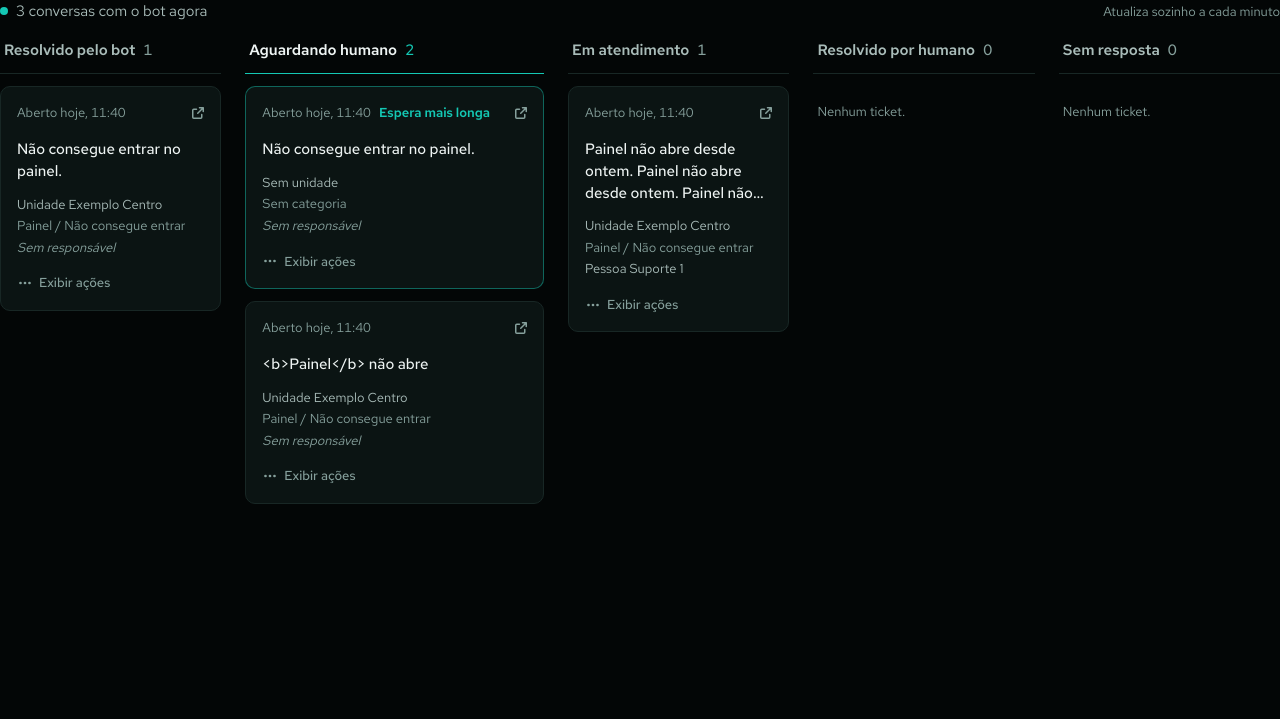
Test case: BoardView › opens the details of a ticket from its card, with the full summary and the actions
Click the button named "ver detalhes": (681, 172) [585,139,776,204]
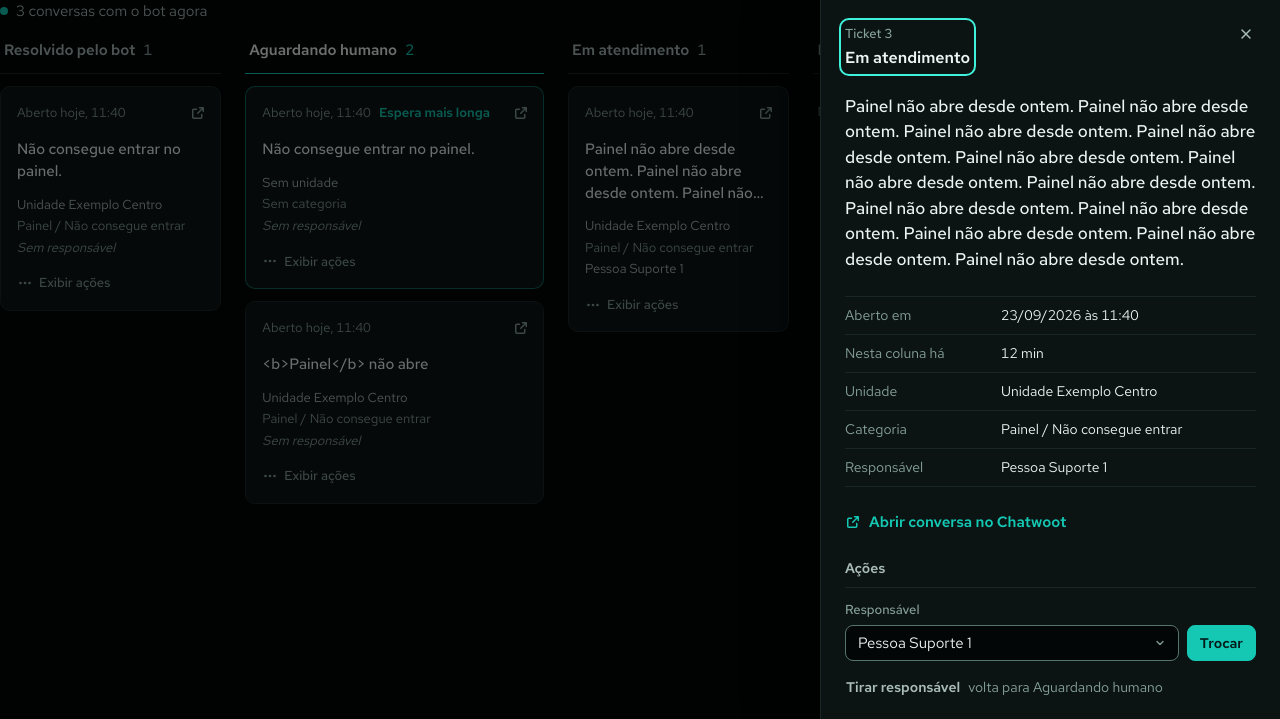
Expected: the button "Trocar" is shown, [1187,625,1256,661]
Click the button named "Fechar detalhes": (1246, 34) [1228,16,1264,52]
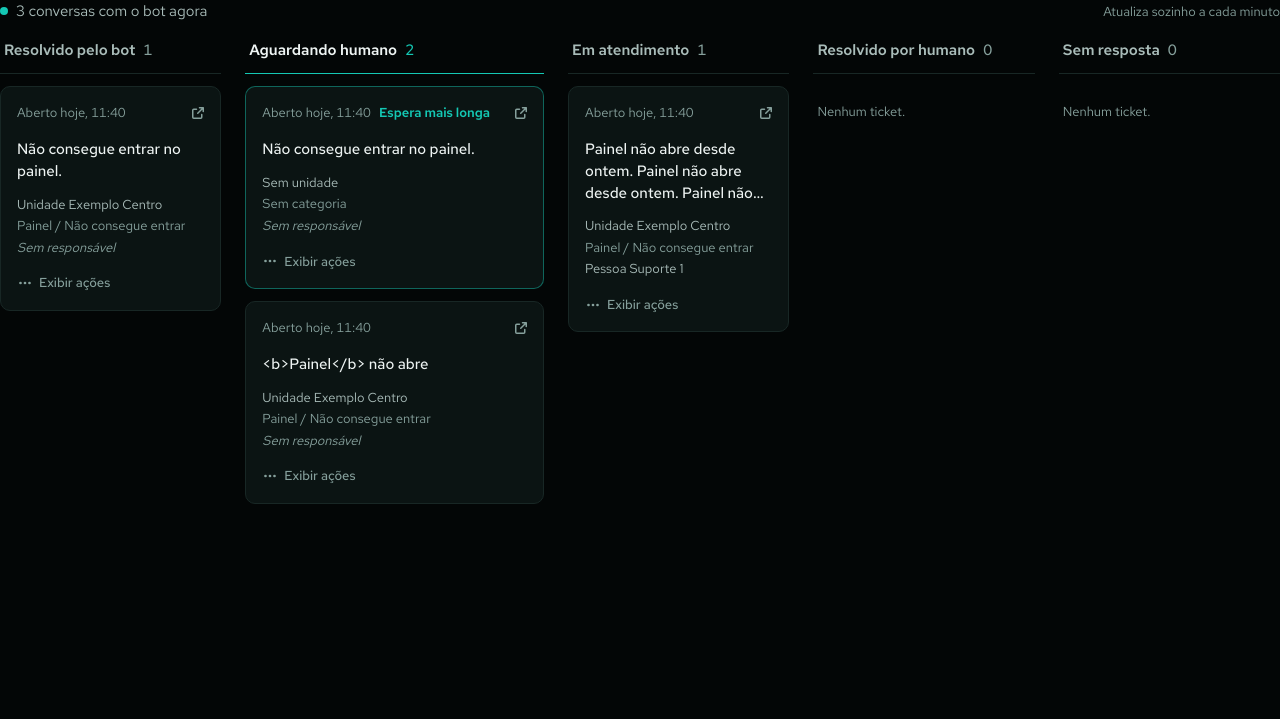
Expected: the dialog is gone
